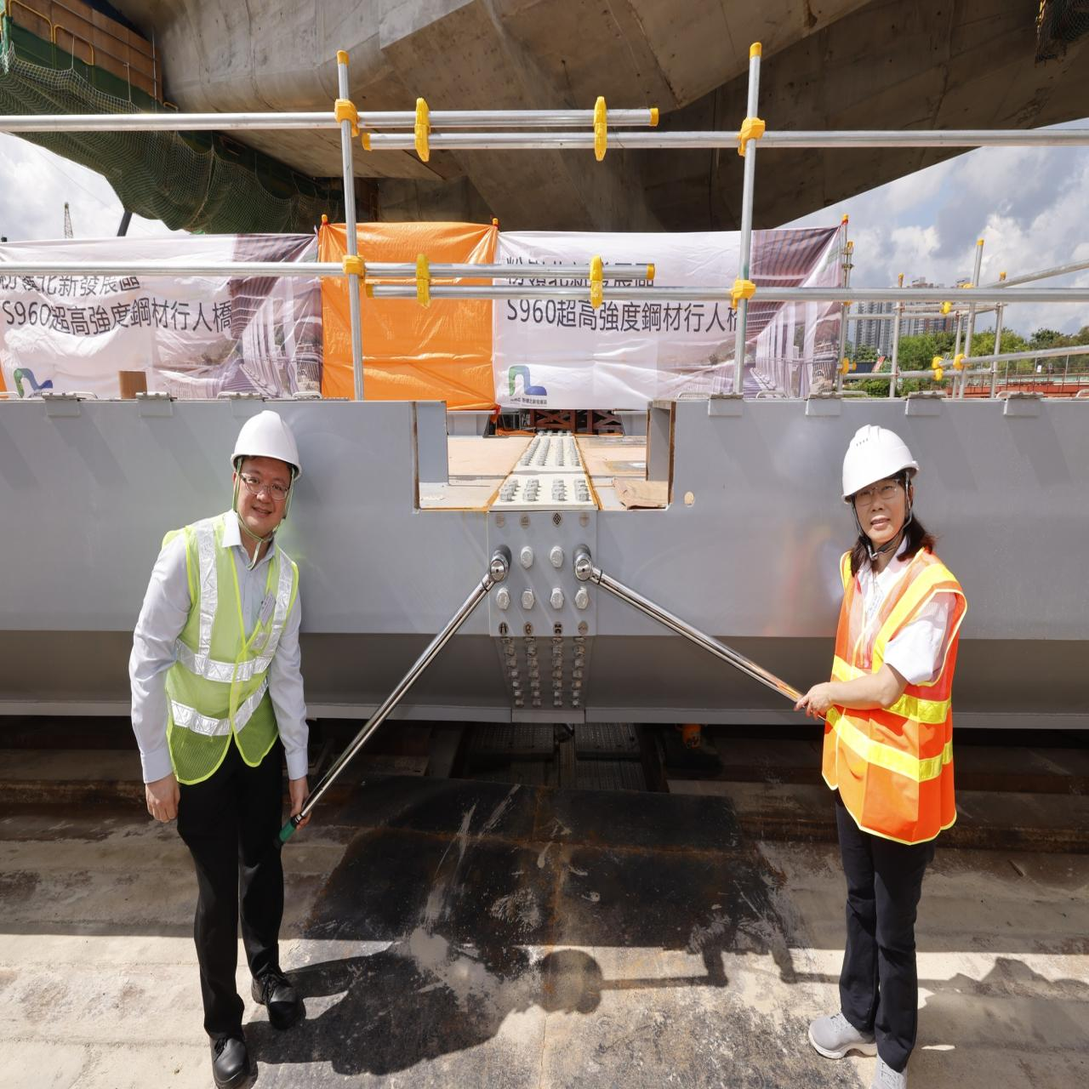Person: (120, 403, 334, 1089), (790, 411, 991, 1089)
Safety_Vest: (139, 511, 308, 805), (816, 529, 965, 839)
